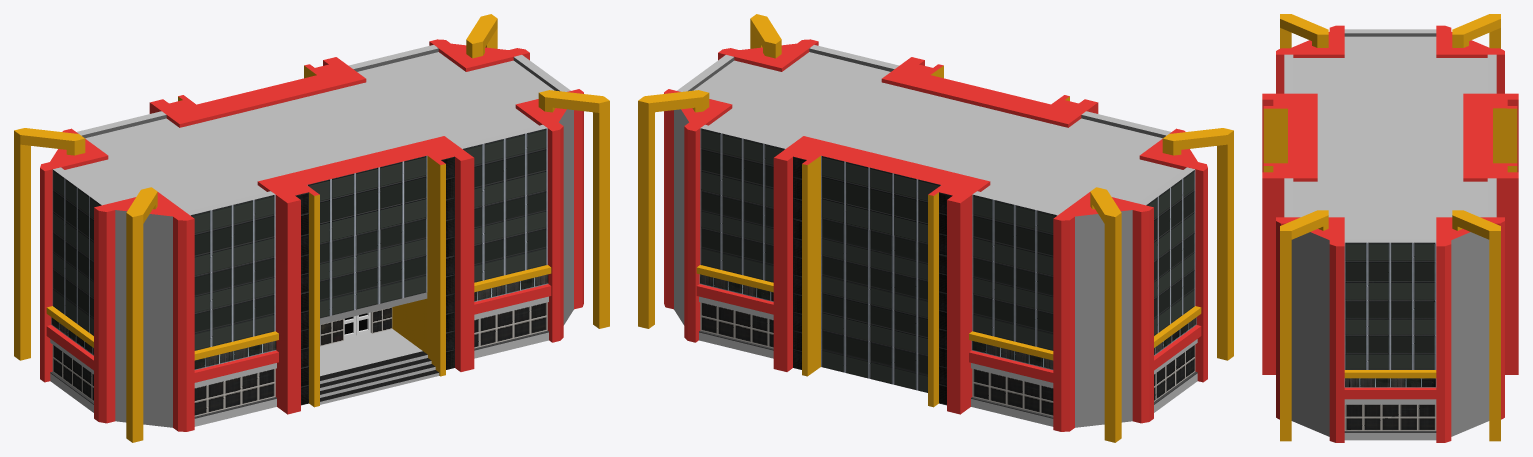
The picture shows the model from 3 angles, left to right: view 1: azimuth 30°, elevation 25°; view 2: azimuth 150°, elevation 25°; view 3: azimuth 270°, elevation 25°; orthographic projection. The views are drawn at different scales.
Visible parts, largest first — view 1: Building; view 2: Building; view 3: Building.
Part boxes in pixels (bbox=[...]): Building: bbox=[14, 14, 609, 442]; Building: bbox=[638, 14, 1233, 442]; Building: bbox=[1262, 14, 1518, 442].
Size of what is drawn, in the model's own units: 40.86 by 18.16 by 20.09.
